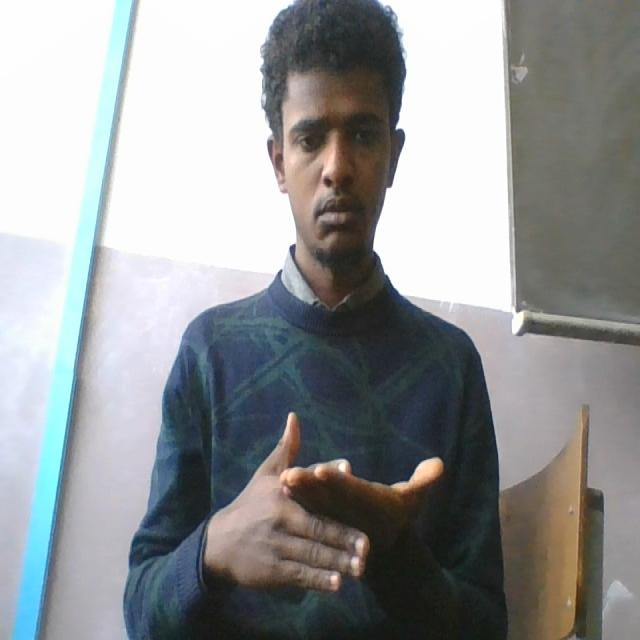sga: (206, 406, 450, 598)
